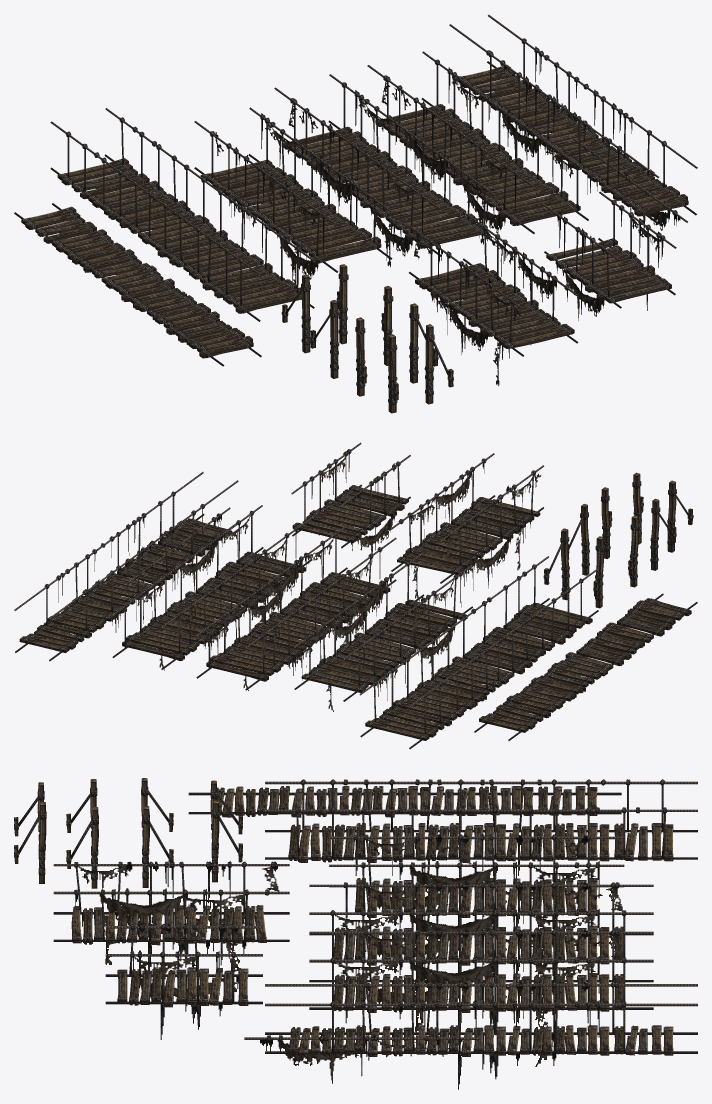
The model's file is EnvObjMD_Bridge_D.FBX.
3 views of the same model, one above another, from view 1: azimuth 30°, elevation 25°; view 2: azimuth 150°, elevation 25°; view 3: azimuth 270°, elevation 25° (orthographic). The views are drawn at different scales.
Parts seen in each view (by area): view 1: EnvObjMD_Bridge_D_Unique_A, EnvObjMD_Bridge_D_Long_A_Unique, EnvObjMD_Bridge_D_Long_A, EnvObjMD_Bridge_D_Unique_B, EnvObjMD_Bridge_D_Long_B, EnvObjMD_Bridge_D_Unique_B_NoRope, EnvObjMD_Bridge_D, EnvObjMD_Bridge_D_Short_A, EnvObjMD_Bridge_D_Unique_B_R, EnvObjMD_Bridge_D_Unique_B_L, EnvObjMD_Bridge_D_R, EnvObjMD_Bridge_D_L (+1 smaller); view 2: EnvObjMD_Bridge_D_Unique_A, EnvObjMD_Bridge_D_Long_A_Unique, EnvObjMD_Bridge_D_Long_A, EnvObjMD_Bridge_D_Long_B, EnvObjMD_Bridge_D_Unique_B, EnvObjMD_Bridge_D, EnvObjMD_Bridge_D_Unique_B_NoRope, EnvObjMD_Bridge_D_Short_A, EnvObjMD_Bridge_D_Unique_B_L, EnvObjMD_Bridge_D_R, EnvObjMD_Bridge_D_L, EnvObjMD_Bridge_D_Unique_B_R (+1 smaller); view 3: EnvObjMD_Bridge_D_Unique_A, EnvObjMD_Bridge_D_Long_A, EnvObjMD_Bridge_D_Unique_B, EnvObjMD_Bridge_D_Long_A_Unique, EnvObjMD_Bridge_D_Long_B, EnvObjMD_Bridge_D, EnvObjMD_Bridge_D_Unique_B_NoRope, EnvObjMD_Bridge_D_Short_A, EnvObjMD_Bridge_D_Rope, EnvObjMD_Bridge_D_L, EnvObjMD_Bridge_D_R, EnvObjMD_Bridge_D_Unique_B_R (+1 smaller).
Part boxes in pixels (left/top/right/bottom): EnvObjMD_Bridge_D_Unique_A: left=50, top=108, right=315, bottom=321; EnvObjMD_Bridge_D_Long_A_Unique: left=274, top=74, right=496, bottom=267; EnvObjMD_Bridge_D_Long_A: left=367, top=51, right=589, bottom=244; EnvObjMD_Bridge_D_Unique_B: left=449, top=14, right=697, bottom=224; EnvObjMD_Bridge_D_Long_B: left=194, top=107, right=392, bottom=283; EnvObjMD_Bridge_D_Unique_B_NoRope: left=14, top=203, right=261, bottom=366; EnvObjMD_Bridge_D: left=408, top=212, right=578, bottom=386; EnvObjMD_Bridge_D_Short_A: left=544, top=191, right=676, bottom=320; EnvObjMD_Bridge_D_Unique_B_R: left=387, top=324, right=453, bottom=413; EnvObjMD_Bridge_D_Unique_B_L: left=281, top=264, right=348, bottom=353; EnvObjMD_Bridge_D_R: left=355, top=303, right=438, bottom=396; EnvObjMD_Bridge_D_L: left=310, top=286, right=393, bottom=378; EnvObjMD_Bridge_D_Unique_A: left=359, top=556, right=598, bottom=749; EnvObjMD_Bridge_D_Long_A_Unique: left=195, top=525, right=396, bottom=690; EnvObjMD_Bridge_D_Long_A: left=112, top=505, right=312, bottom=670; EnvObjMD_Bridge_D_Long_B: left=294, top=552, right=472, bottom=711; EnvObjMD_Bridge_D_Unique_B: left=14, top=472, right=238, bottom=661; EnvObjMD_Bridge_D: left=390, top=453, right=544, bottom=601; EnvObjMD_Bridge_D_Unique_B_NoRope: left=474, top=593, right=697, bottom=740; EnvObjMD_Bridge_D_Short_A: left=291, top=442, right=410, bottom=565; EnvObjMD_Bridge_D_Unique_B_L: left=543, top=528, right=604, bottom=608; EnvObjMD_Bridge_D_R: left=600, top=487, right=676, bottom=570; EnvObjMD_Bridge_D_L: left=568, top=504, right=639, bottom=587; EnvObjMD_Bridge_D_Unique_B_R: left=632, top=472, right=693, bottom=552; EnvObjMD_Bridge_D_Unique_A: left=265, top=779, right=697, bottom=862; EnvObjMD_Bridge_D_Long_A: left=309, top=928, right=653, bottom=1066; EnvObjMD_Bridge_D_Unique_B: left=265, top=981, right=697, bottom=1089; EnvObjMD_Bridge_D_Long_A_Unique: left=309, top=881, right=653, bottom=1019; EnvObjMD_Bridge_D_Long_B: left=329, top=833, right=624, bottom=971; EnvObjMD_Bridge_D: left=53, top=861, right=289, bottom=991; EnvObjMD_Bridge_D_Unique_B_NoRope: left=188, top=785, right=621, bottom=817; EnvObjMD_Bridge_D_Short_A: left=105, top=923, right=262, bottom=1039; EnvObjMD_Bridge_D_Rope: left=244, top=1034, right=480, bottom=1083; EnvObjMD_Bridge_D_L: left=141, top=778, right=173, bottom=887; EnvObjMD_Bridge_D_R: left=66, top=779, right=98, bottom=888; EnvObjMD_Bridge_D_Unique_B_R: left=14, top=782, right=46, bottom=883.
Size of the model in its own units: 3218 by 667 by 3475.
